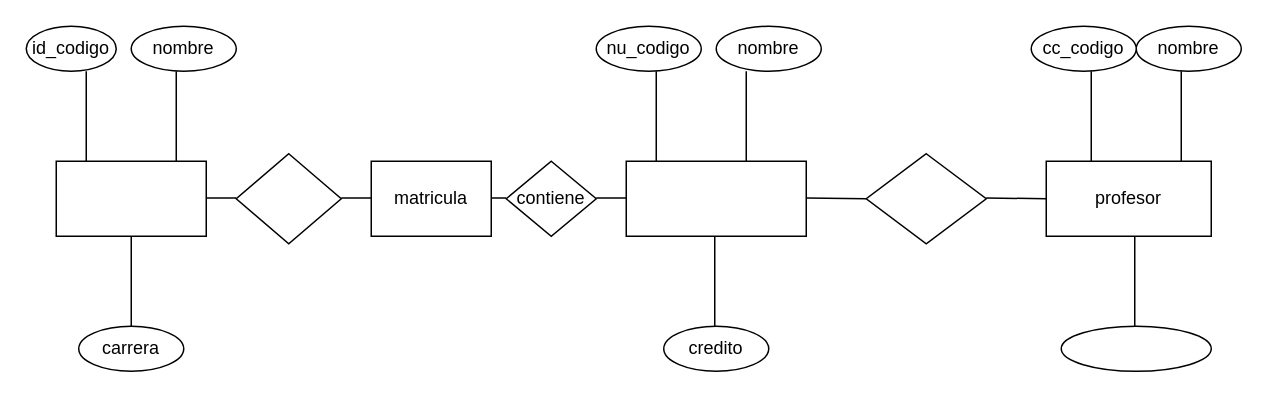
The diagram is 1268 pixels wide and 398 high, and some of its shapes have lost their labels. The shapes that lost their labels are listed below. From the top down, each one's centre as x and y in pixels, then its label:
At (x=130, y=198): "Estudiante".
At (x=288, y=198): "semestre".
At (x=715, y=198): "curso".
At (x=925, y=198): "dicta".
At (x=1135, y=348): "area_academica".
